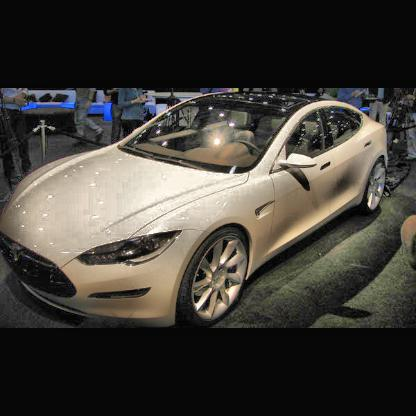Tesla Model S Sedan 2012: (5, 94, 393, 325)
